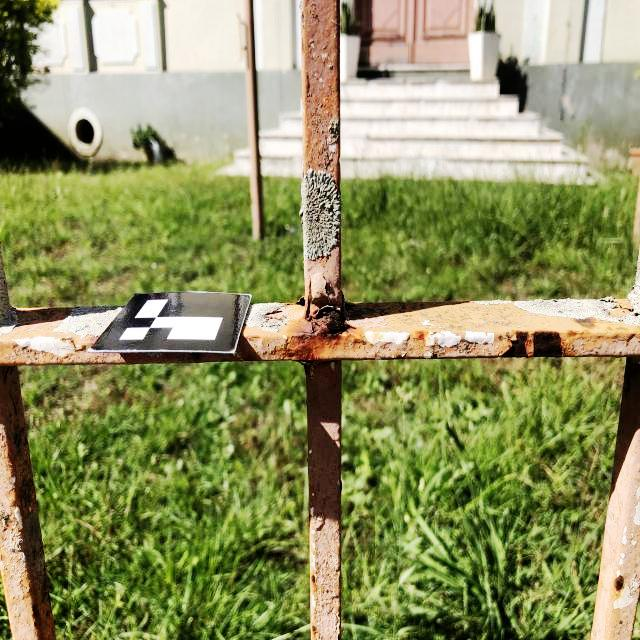Corrosion: (287, 278, 357, 364), (499, 331, 530, 358), (532, 331, 564, 357), (574, 317, 594, 328), (614, 575, 624, 592), (62, 338, 76, 348), (32, 604, 39, 618), (417, 332, 426, 339), (352, 332, 360, 339), (311, 575, 316, 584), (193, 354, 200, 360), (311, 625, 316, 632), (93, 336, 100, 341), (34, 622, 38, 626)
